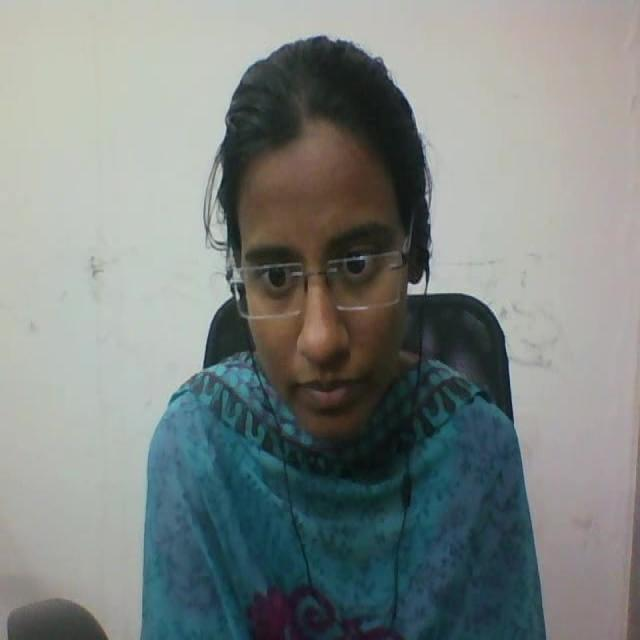Engaged: (184, 6, 454, 452)
